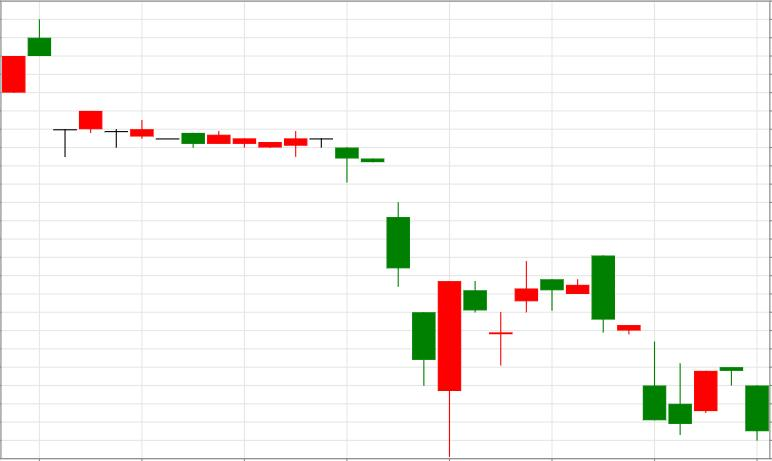bearish_engulfing_fall: (490, 255, 614, 364)
bullish_engulfing_rise: (208, 132, 460, 459)
